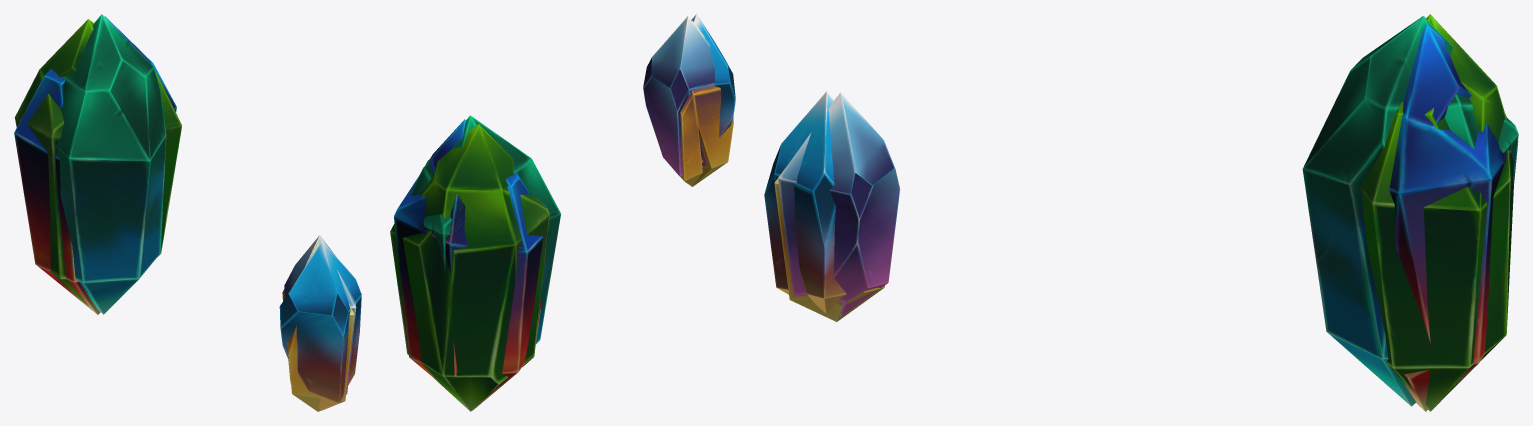
The model's file is World Shard Fix Pos (1).fbx.
The picture shows the model from 3 angles, left to right: view 1: azimuth 30°, elevation 25°; view 2: azimuth 150°, elevation 25°; view 3: azimuth 270°, elevation 25°; orthographic projection. The views are drawn at different scales.
Parts seen in each view (by area): view 1: model_3, model_0, model_1, model_2, model_4, model_5; view 2: model_1, model_2, model_5, model_3, model_4, model_0; view 3: model_1, model_3, model_2, model_5, model_0, model_4.
Boxes of the visible parts, x1,y1,x2,y2 form: model_3: [56, 14, 166, 314]; model_0: [279, 240, 361, 410]; model_1: [14, 19, 181, 306]; model_2: [14, 16, 176, 314]; model_4: [282, 242, 354, 411]; model_5: [284, 235, 356, 394]; model_1: [390, 124, 549, 411]; model_2: [394, 119, 548, 409]; model_5: [643, 16, 714, 177]; model_3: [409, 115, 560, 343]; model_4: [680, 21, 733, 186]; model_0: [691, 14, 735, 162]; model_1: [1360, 14, 1513, 411]; model_3: [1302, 16, 1518, 406]; model_2: [1389, 24, 1518, 411]; model_5: [778, 92, 900, 317]; model_0: [764, 91, 846, 313]; model_4: [774, 97, 884, 321].
Bounding box in the file's own units: 316 × 654 × 1123.
